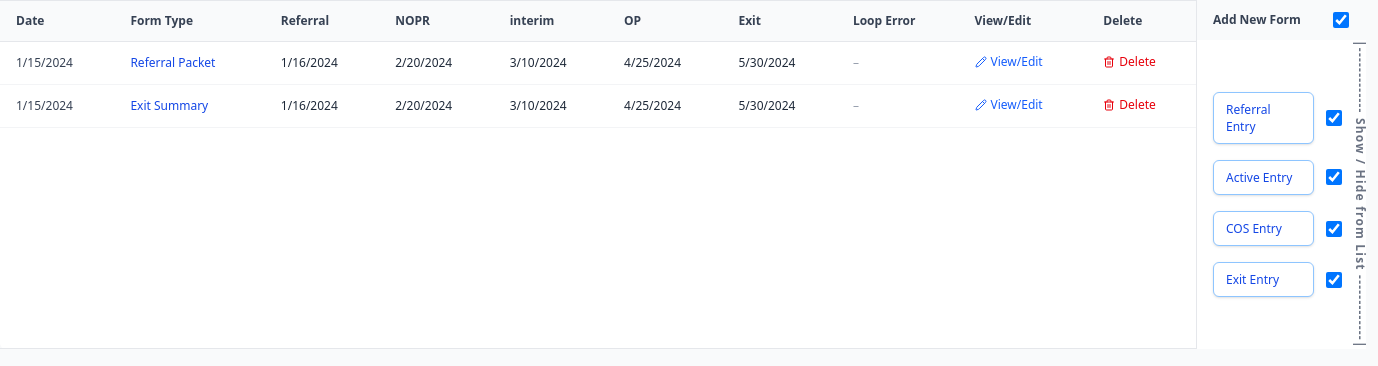
Scenario: unchecking a form type hides its rows
The width and height of the screenshot is (1378, 366).
Expected: the text "Referral Packet" is shown, [130,54,215,71]
Expected: the text "Exit Summary" is shown, [130,97,208,114]
Click the 2nd checkbox.
click(1334, 118)  # box [1326,110,1342,126]
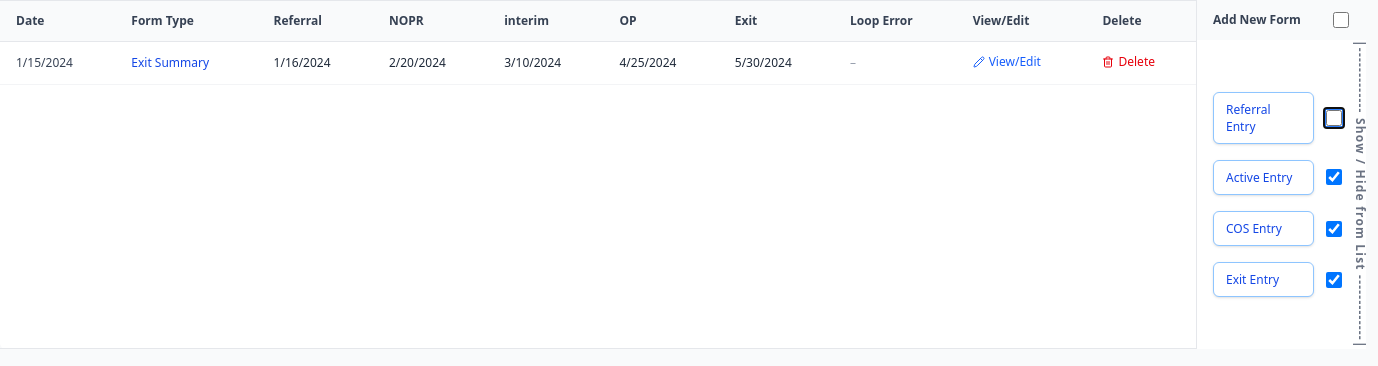
Expected: the text "Exit Summary" is shown, [131,54,209,71]
Expected: the checkbox next to "Add New Form" is not checked, [1333,12,1349,28]
